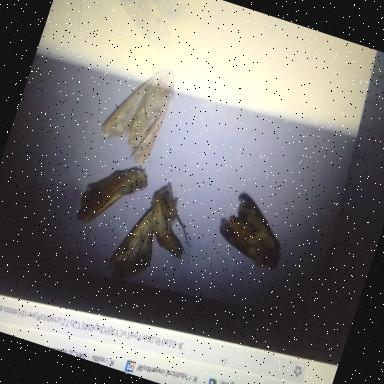abw: (93, 55, 180, 169), (209, 188, 296, 274), (72, 151, 152, 240), (136, 178, 204, 260), (104, 201, 167, 286), (101, 0, 189, 54)
